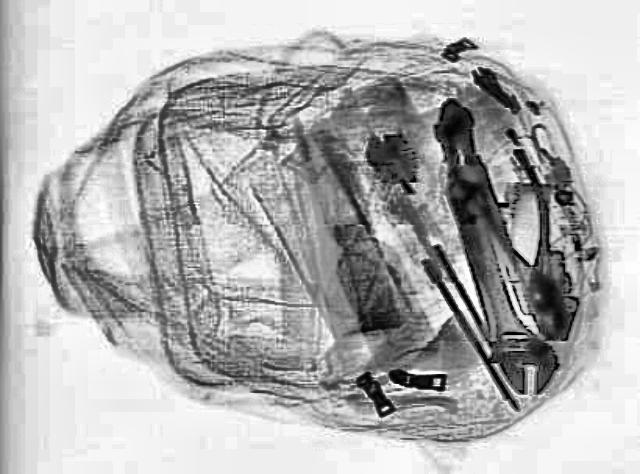Pliers: (464, 144, 590, 342)
Wrench: (432, 170, 564, 398)
